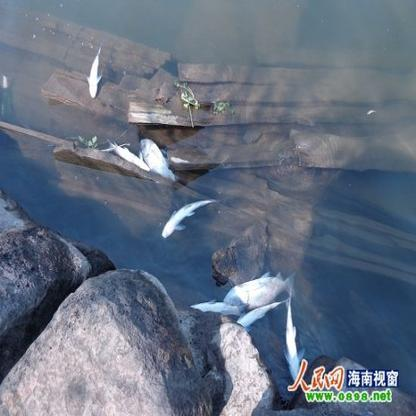deceased fish: (156, 192, 218, 240), (220, 269, 299, 305), (232, 295, 287, 328), (138, 138, 176, 181), (104, 139, 151, 173), (189, 300, 249, 320), (86, 47, 103, 99)
